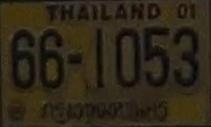0: (114, 27, 140, 88)
1: (95, 28, 103, 88)
3: (172, 26, 198, 87)
5: (144, 26, 168, 86)
6: (10, 29, 36, 88), (40, 29, 64, 88)
BKK: (35, 96, 170, 121)
